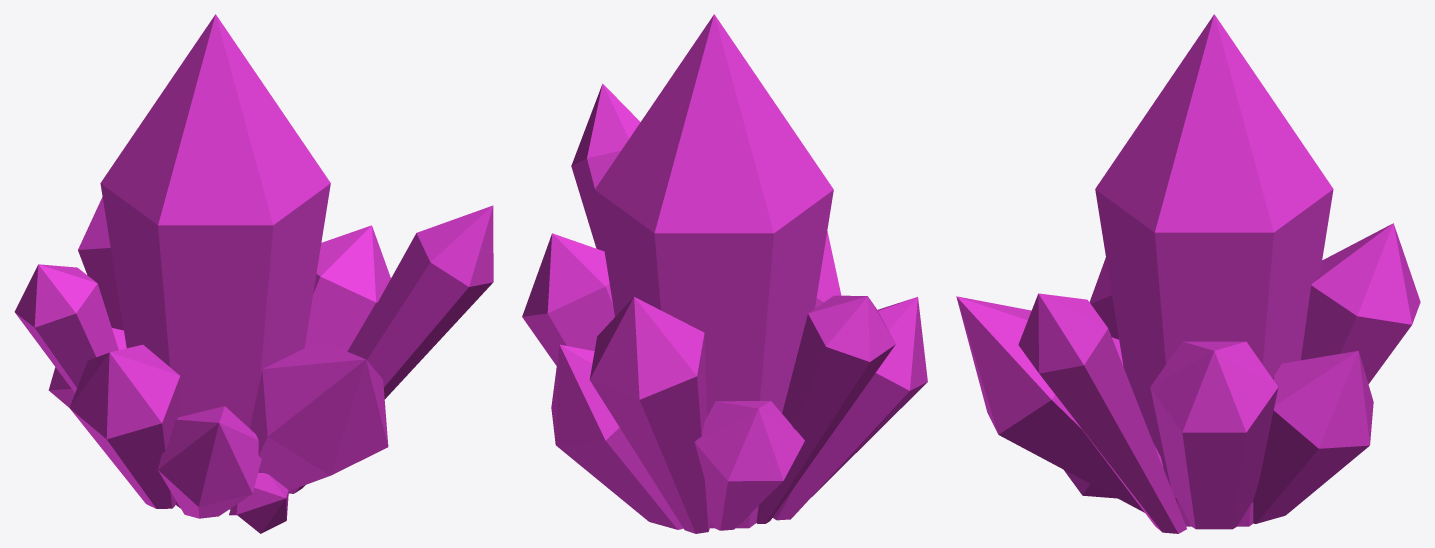
File: Crystal Chunk 1.fbx
3 renders of one model, left to right at view 1: azimuth 30°, elevation 25°; view 2: azimuth 150°, elevation 25°; view 3: azimuth 270°, elevation 25°, orthographic. The views are drawn at different scales.
Parts seen in each view (by area): view 1: Crystal Chunk 1; view 2: Crystal Chunk 1; view 3: Crystal Chunk 1.
Part boxes in pixels (left/top/right/bottom): Crystal Chunk 1: left=14, top=14, right=493, bottom=533; Crystal Chunk 1: left=522, top=14, right=927, bottom=533; Crystal Chunk 1: left=956, top=14, right=1420, bottom=533.
Bounding box in the file's own units: 345 × 410 × 354.
